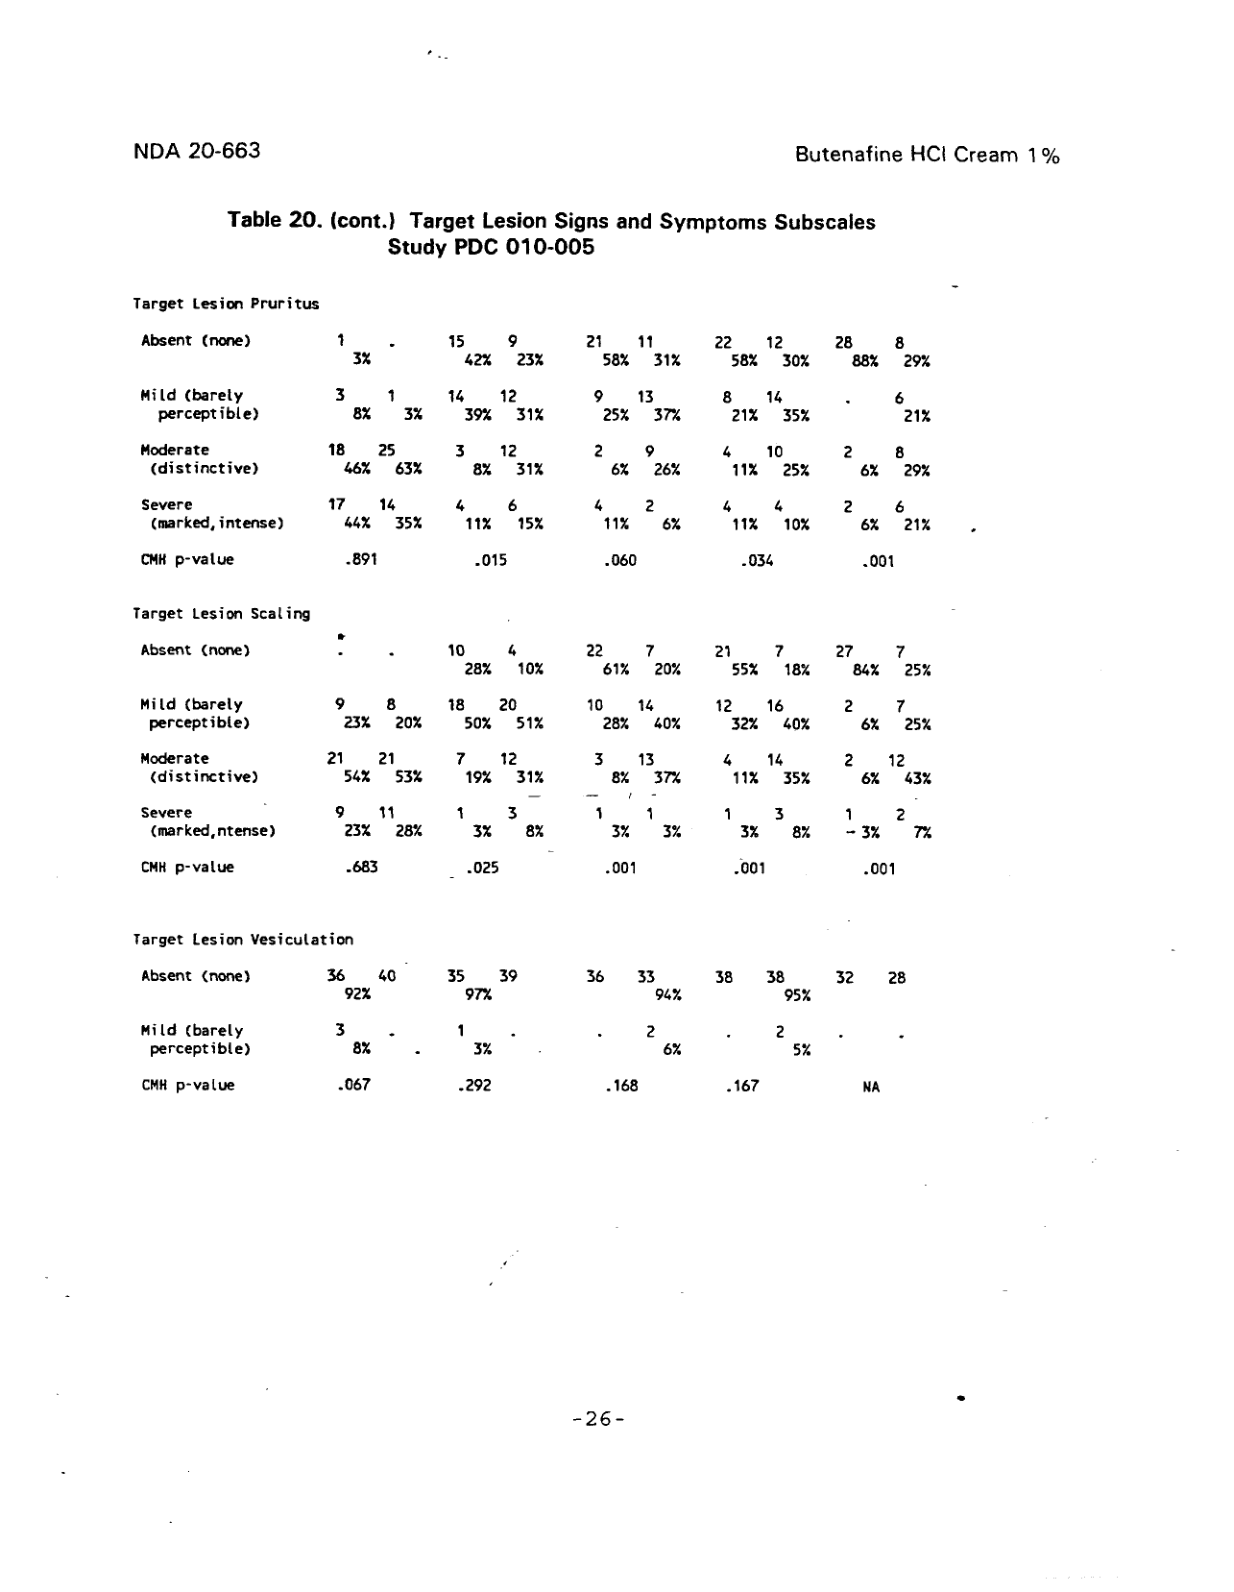nolines: (129, 292, 936, 1100)
